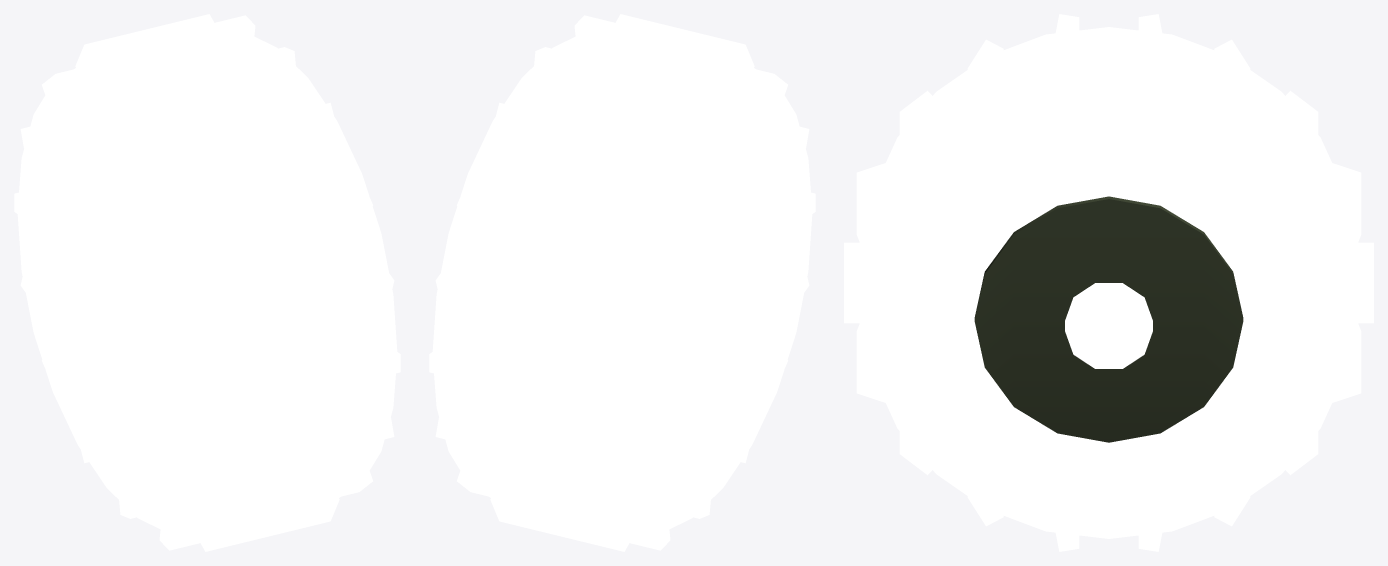
File: wheel_apc.glb
3 views of the same model, side by side, from view 1: azimuth 30°, elevation 25°; view 2: azimuth 150°, elevation 25°; view 3: azimuth 270°, elevation 25° (orthographic).
Parts seen in each view (by area): view 1: wheel_apc_LOD0; view 2: wheel_apc_LOD0; view 3: wheel_apc_LOD0.
Part boxes in pixels (bbox=[...]): wheel_apc_LOD0: bbox=[14, 14, 400, 551]; wheel_apc_LOD0: bbox=[429, 14, 815, 551]; wheel_apc_LOD0: bbox=[844, 14, 1373, 551].
Size of what is drawn, in the model's own units: 0.485 by 1.29 by 1.3.
